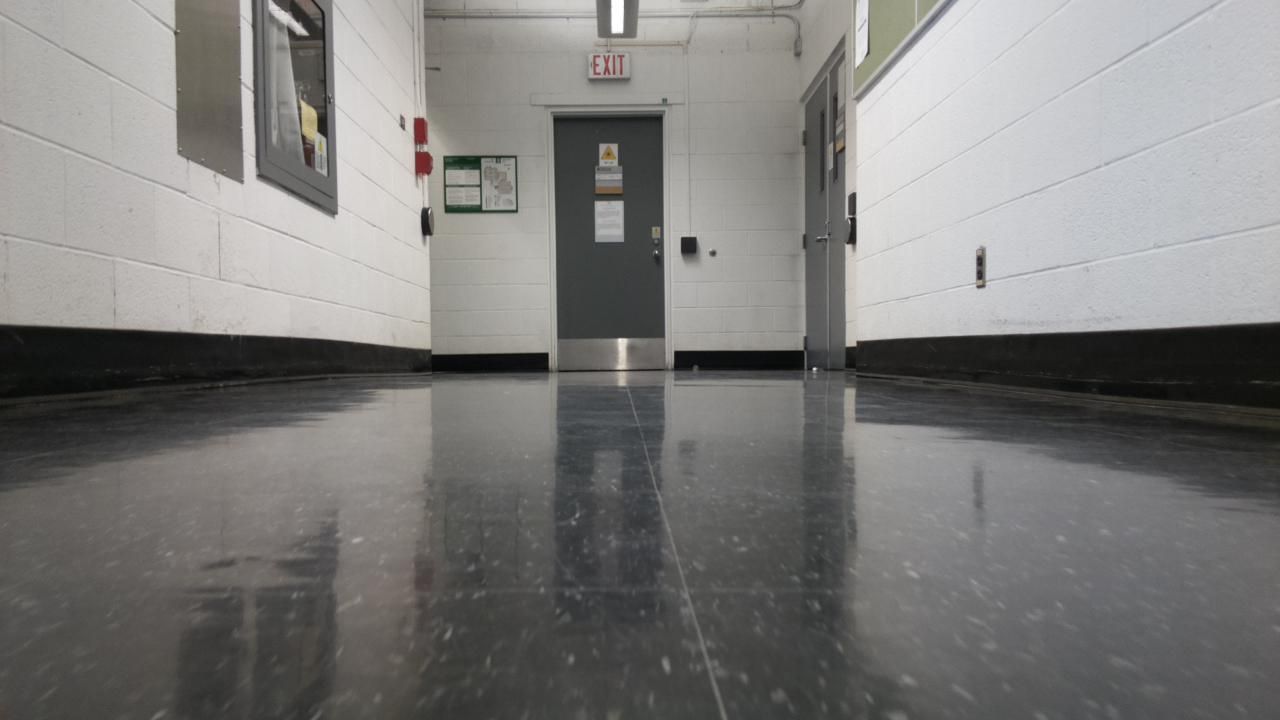door: (553, 116, 664, 370)
sign: (443, 156, 516, 212), (588, 53, 629, 77), (595, 166, 622, 192), (599, 144, 617, 167)
